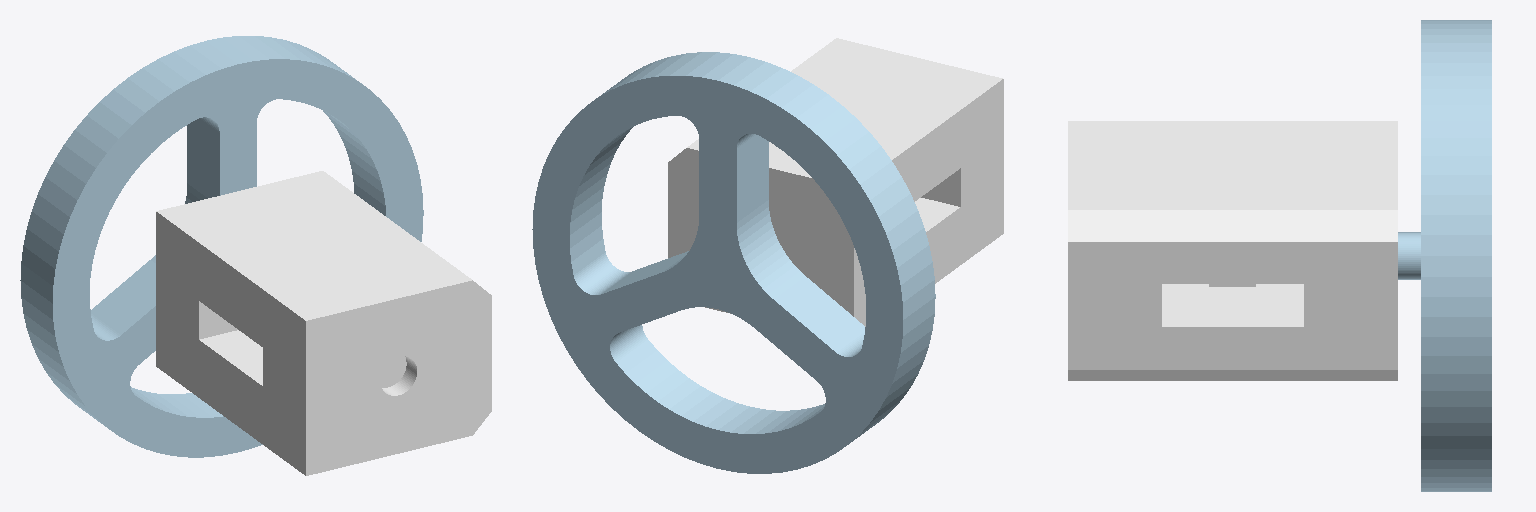
The robot description file, URDF, robot "jumping_robot":
<robot name="jumping_robot">
<link name="body">
<visual>
<origin xyz="0.034049182146808520955 0.017409794483833861134 0.0029837952109667432304" rpy="-3.1415926353695713402 4.2370458770807958655e-30 3.1415926535897926719" />
<geometry>
<mesh filename="package://jumping_description/jumping/pinion.stl"/>
</geometry>
<material name="pinion_material">
<color rgba="0.98039215686274505668 0.71372549019607844922 0.0039215686274509803377 1.0"/>
</material>
</visual>
<collision>
<origin xyz="0.034049182146808520955 0.017409794483833861134 0.0029837952109667432304" rpy="-3.1415926353695713402 4.2370458770807958655e-30 3.1415926535897926719" />
<geometry>
<mesh filename="package://jumping_description/jumping/pinion.stl"/>
</geometry>
</collision>
<visual>
<origin xyz="0.046458225176851913885 0.022409794028328398896 -0.022016204880134407351" rpy="-3.1607046837131202829e-24 1.8220221997822253468e-08 1.570796326794896558" />
<geometry>
<mesh filename="package://jumping_description/jumping/body.stl"/>
</geometry>
<material name="body_material">
<color rgba="1 1 1 1.0"/>
</material>
</visual>
<collision>
<origin xyz="0.046458225176851913885 0.022409794028328398896 -0.022016204880134407351" rpy="-3.1607046837131202829e-24 1.8220221997822253468e-08 1.570796326794896558" />
<geometry>
<mesh filename="package://jumping_description/jumping/body.stl"/>
</geometry>
</collision>
<visual>
<origin xyz="0.046458225176851906946 -0.017590205607267157817 -0.0020162041513255334405" rpy="-1.8220221997822256777e-08 -3.3033261573682402758e-24 -4.1633363423443385057e-16" />
<geometry>
<mesh filename="package://jumping_description/jumping/r_wheel.stl"/>
</geometry>
<material name="r_wheel_material">
<color rgba="0.76862745098039220171 0.88627450980392152857 0.95294117647058818044 1.0"/>
</material>
</visual>
<collision>
<origin xyz="0.046458225176851906946 -0.017590205607267157817 -0.0020162041513255334405" rpy="-1.8220221997822256777e-08 -3.3033261573682402758e-24 -4.1633363423443385057e-16" />
<geometry>
<mesh filename="package://jumping_description/jumping/r_wheel.stl"/>
</geometry>
</collision>
<visual>
<origin xyz="0.046458225176851920823 0.077409794392732822477 -0.0020162058822466187233" rpy="-1.8220221997822263394e-08 -1.1272651491795689502e-25 -1.4571677198205186989e-16" />
<geometry>
<mesh filename="package://jumping_description/jumping/l_wheel.stl"/>
</geometry>
<material name="l_wheel_material">
<color rgba="0.76862745098039220171 0.88627450980392152857 0.95294117647058818044 1.0"/>
</material>
</visual>
<collision>
<origin xyz="0.046458225176851920823 0.077409794392732822477 -0.0020162058822466187233" rpy="-1.8220221997822263394e-08 -1.1272651491795689502e-25 -1.4571677198205186989e-16" />
<geometry>
<mesh filename="package://jumping_description/jumping/l_wheel.stl"/>
</geometry>
</collision>
<inertial>
<origin xyz="0.042153144016186215592 0.022446010125763707355 -0.0019396161188920603858" rpy="0 0 0"/>
<mass value="0.35548577738424569361" />
<inertia ixx="0.00057035997490628720114" ixy="3.4330234147639555474e-07"  ixz="2.6466414231481827111e-06" iyy="0.0004552826791115867312" iyz="-4.5774633745284428108e-09" izz="0.00073472655939739385696" />
</inertial>
</link>


</robot>

--- Render facts (derived) ---
Views: 3 orthographic renders of the robot side by side, from view 1: azimuth 30°, elevation 25°; view 2: azimuth 150°, elevation 25°; view 3: azimuth 270°, elevation 25°.
Model jumping_robot with 1 links and 0 joints (none), rooted at body, posed every joint at zero.
Visible links, largest first — view 1: body; view 2: body; view 3: body.
Link boxes in pixels (x1,y1,x2,y2): body: [20, 36, 491, 475]; body: [532, 38, 1003, 473]; body: [1068, 20, 1491, 491].
Size in the robot's own frame: 0.1 by 0.09 by 0.1 metres.
2 mesh visuals loaded from 4 distinct referenced files (2 binary STL); not drawn: 2 (file found but could not be loaded).